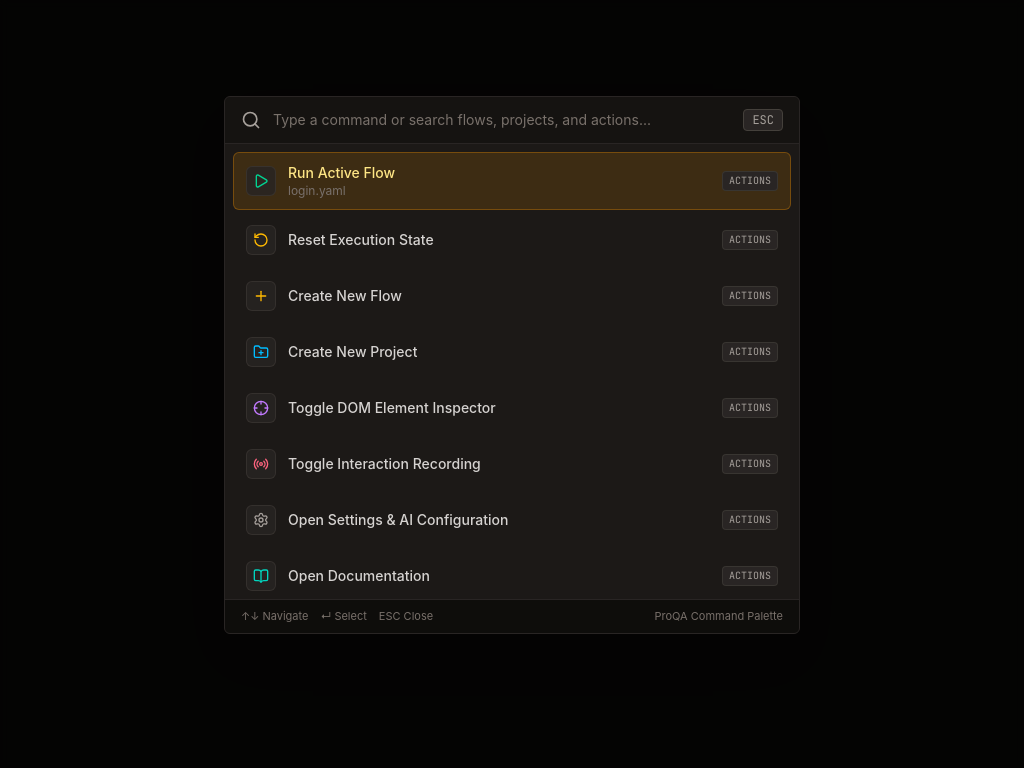
Test: CommandPalette › filters items correctly on query input
Type query matching checkout flow
Type "checkout" into the dropdown at (504, 120), box [273, 110, 735, 130]
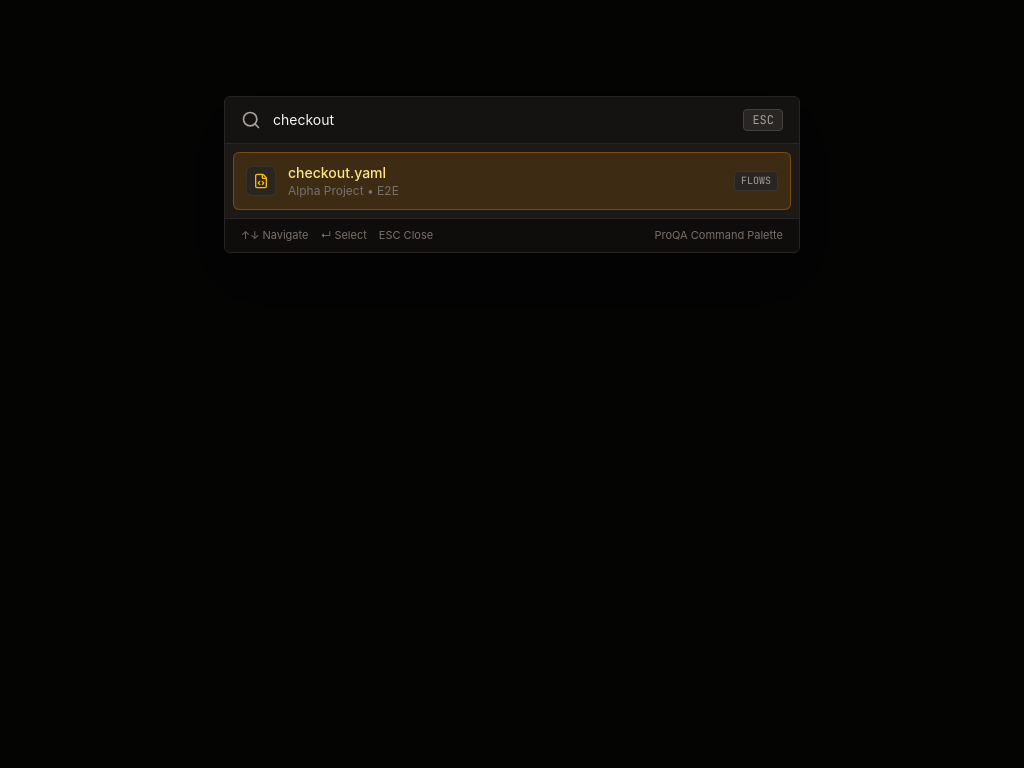
Result: the text "checkout.yaml" is shown at [288, 163, 399, 183]
Result: the option "login.yaml" is gone
